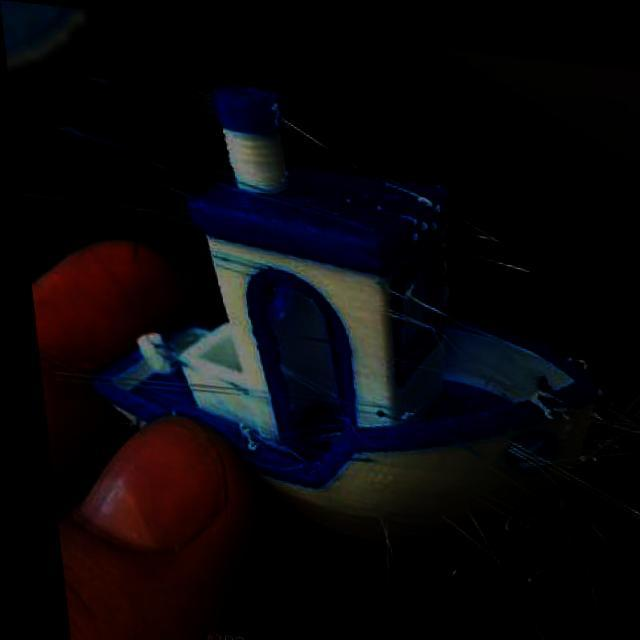stringing: (96, 136, 222, 187), (94, 66, 222, 111), (448, 207, 528, 264), (502, 492, 592, 541), (109, 196, 193, 247), (588, 390, 640, 456), (528, 446, 576, 508), (446, 505, 492, 559), (322, 138, 381, 172), (364, 514, 391, 583), (603, 546, 640, 596), (567, 463, 611, 493), (284, 114, 324, 145), (613, 493, 640, 527)
